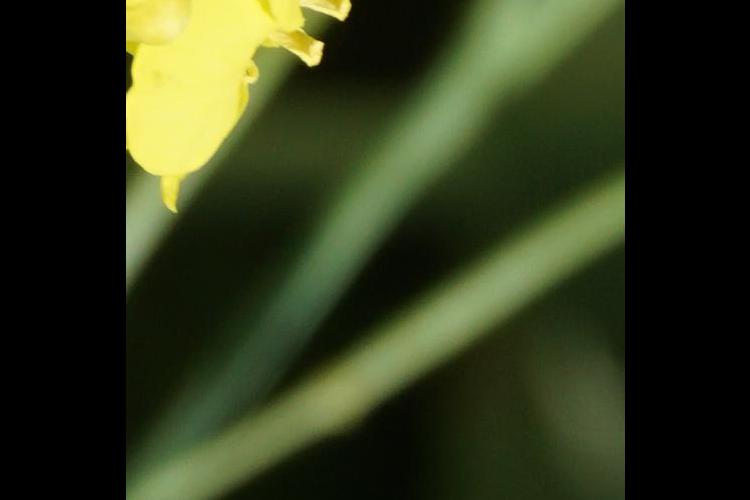yellow: (132, 1, 364, 146)
